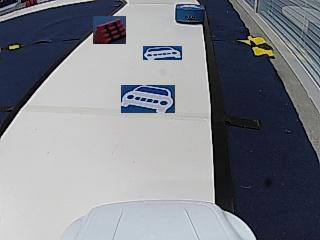prop: (175, 3, 204, 24)
